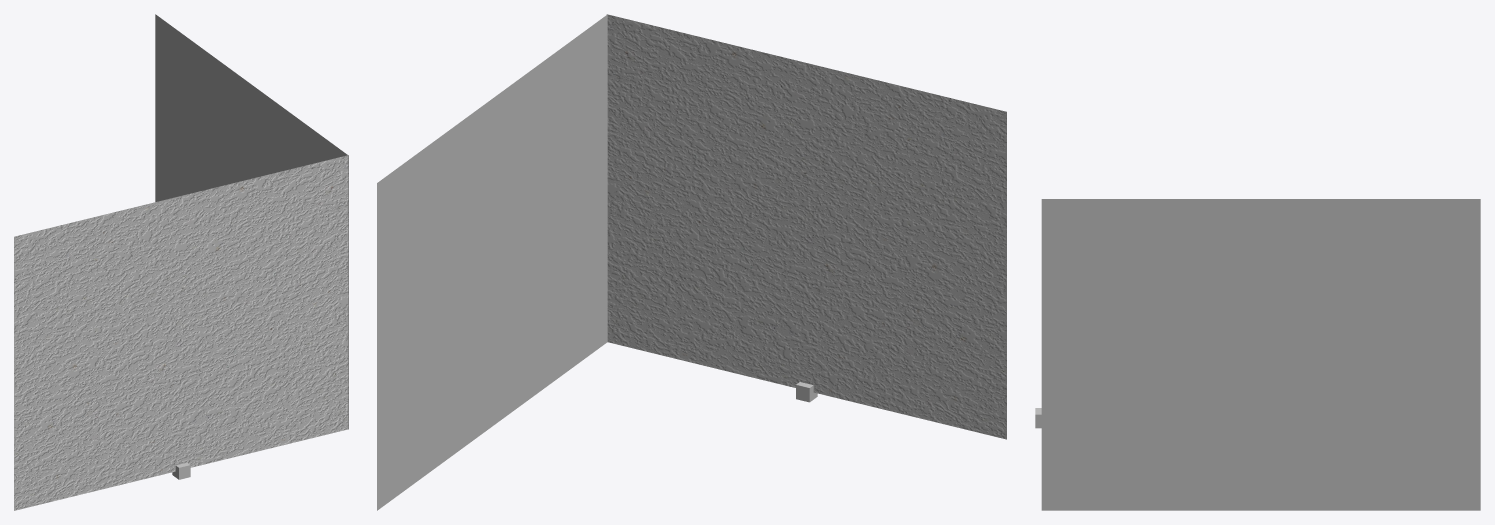
Rendered from pereteCamera.obj.
The picture shows the model from 3 angles, left to right: view 1: azimuth 30°, elevation 25°; view 2: azimuth 150°, elevation 25°; view 3: azimuth 270°, elevation 25°; orthographic projection. The views are drawn at different scales.
Parts seen in each view (by area): view 1: Plane.001, Plane.002; view 2: Plane.001, Plane.002; view 3: Plane.002.
Boxes of the visible parts, x1=… form: Plane.001: x1=14, y1=155, x2=348, y2=510; Plane.002: x1=155, y1=14, x2=348, y2=429; Plane.001: x1=606, y1=14, x2=1006, y2=439; Plane.002: x1=377, y1=14, x2=607, y2=510; Plane.002: x1=1041, y1=199, x2=1480, y2=510.
Size of the model in its own units: 58.27 by 46.59 by 59.13.
3 materials, 1 textured.
